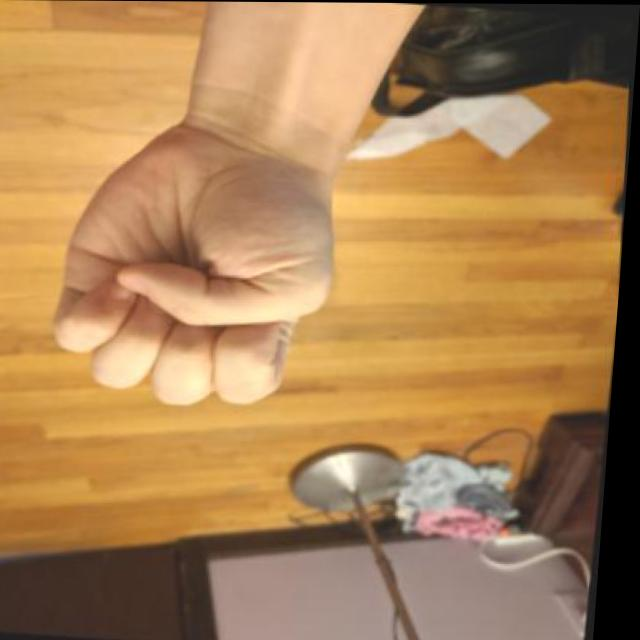E: (39, 105, 366, 420)
